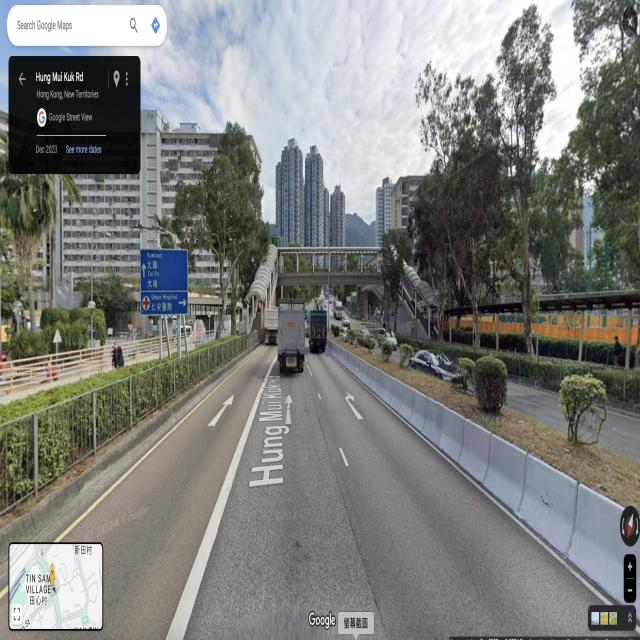Direction-Sign: (141, 249, 188, 315)
